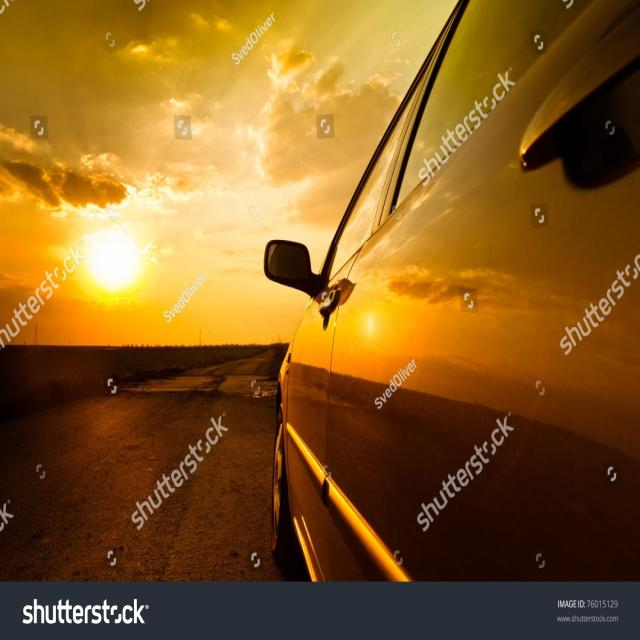sun: (81, 209, 152, 303)
